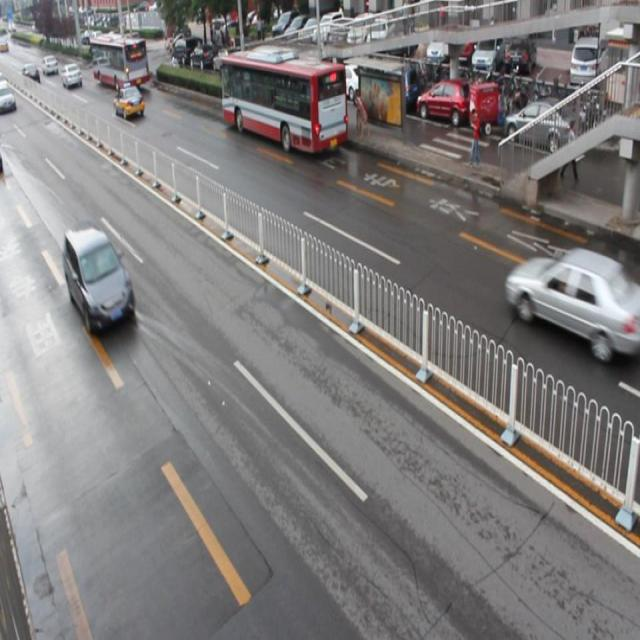car: (504, 246, 640, 358), (114, 82, 144, 123)
truck: (64, 220, 135, 330)
van: (219, 51, 346, 152)
